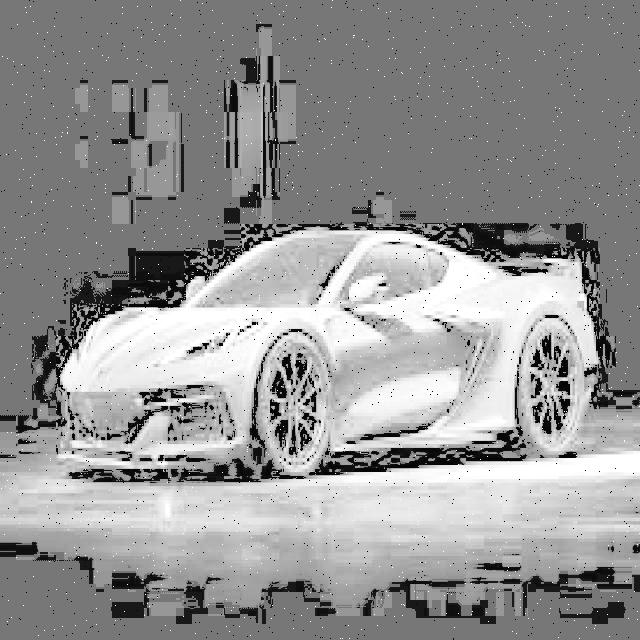Car: (41, 210, 613, 496)
